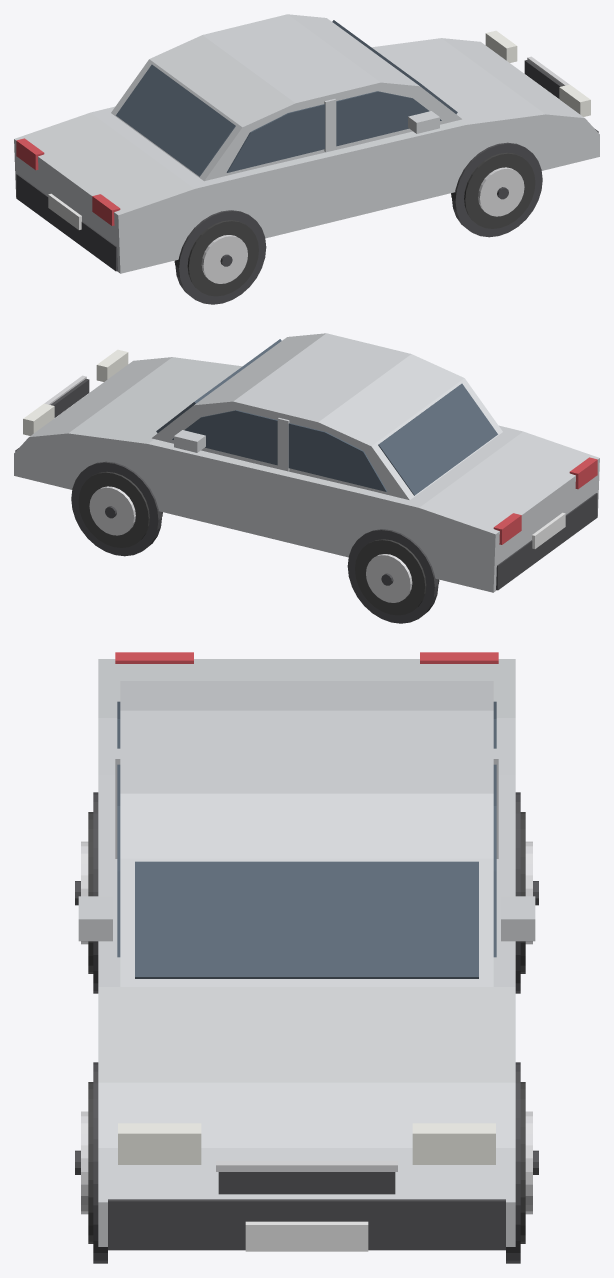
The model's file is scan-sample.glb.
The picture shows the model from 3 angles, top to bottom: view 1: azimuth 30°, elevation 25°; view 2: azimuth 150°, elevation 25°; view 3: azimuth 270°, elevation 25°; orthographic projection. The views are drawn at different scales.
Visible parts, largest first — view 1: geometry_0, geometry_1, geometry_5, geometry_3, geometry_2, geometry_20, geometry_12, geometry_11, geometry_19, geometry_24, geometry_21, geometry_13 (+9 smaller); view 2: geometry_0, geometry_1, geometry_5, geometry_3, geometry_2, geometry_16, geometry_8, geometry_7, geometry_15, geometry_24, geometry_17, geometry_9 (+9 smaller); view 3: geometry_0, geometry_1, geometry_4, geometry_23, geometry_25, geometry_36, geometry_27, geometry_31, geometry_26, geometry_30, geometry_34, geometry_2 (+10 smaller).
Part boxes in pixels (x1,y1,x2,y2): geometry_0: [14, 38, 599, 273]; geometry_1: [111, 14, 461, 181]; geometry_5: [116, 64, 235, 176]; geometry_3: [226, 104, 325, 172]; geometry_2: [336, 91, 441, 146]; geometry_20: [451, 152, 535, 228]; geometry_12: [174, 220, 258, 296]; geometry_11: [175, 210, 266, 304]; geometry_19: [452, 142, 542, 237]; geometry_24: [16, 174, 117, 271]; geometry_21: [478, 167, 524, 216]; geometry_13: [201, 235, 247, 283]; geometry_0: [14, 357, 599, 592]; geometry_1: [152, 333, 502, 500]; geometry_5: [378, 383, 497, 495]; geometry_3: [288, 423, 387, 491]; geometry_2: [172, 410, 277, 465]; geometry_16: [78, 471, 162, 547]; geometry_8: [355, 539, 439, 615]; geometry_7: [347, 529, 438, 623]; geometry_15: [71, 461, 161, 556]; geometry_24: [496, 493, 597, 590]; geometry_17: [89, 486, 135, 535]; geometry_9: [366, 554, 412, 602]; geometry_0: [98, 659, 515, 1246]; geometry_1: [120, 681, 493, 986]; geometry_4: [135, 861, 478, 978]; geometry_23: [108, 1199, 505, 1250]; geometry_25: [218, 1172, 395, 1194]; geometry_36: [245, 1221, 368, 1251]; geometry_27: [412, 1123, 495, 1164]; geometry_31: [118, 1123, 201, 1164]; geometry_26: [216, 1161, 397, 1171]; geometry_30: [501, 896, 535, 941]; geometry_34: [78, 896, 112, 941]; geometry_2: [117, 764, 496, 957].
Size of the model in its own units: 4.62 by 1.58 by 1.89.
